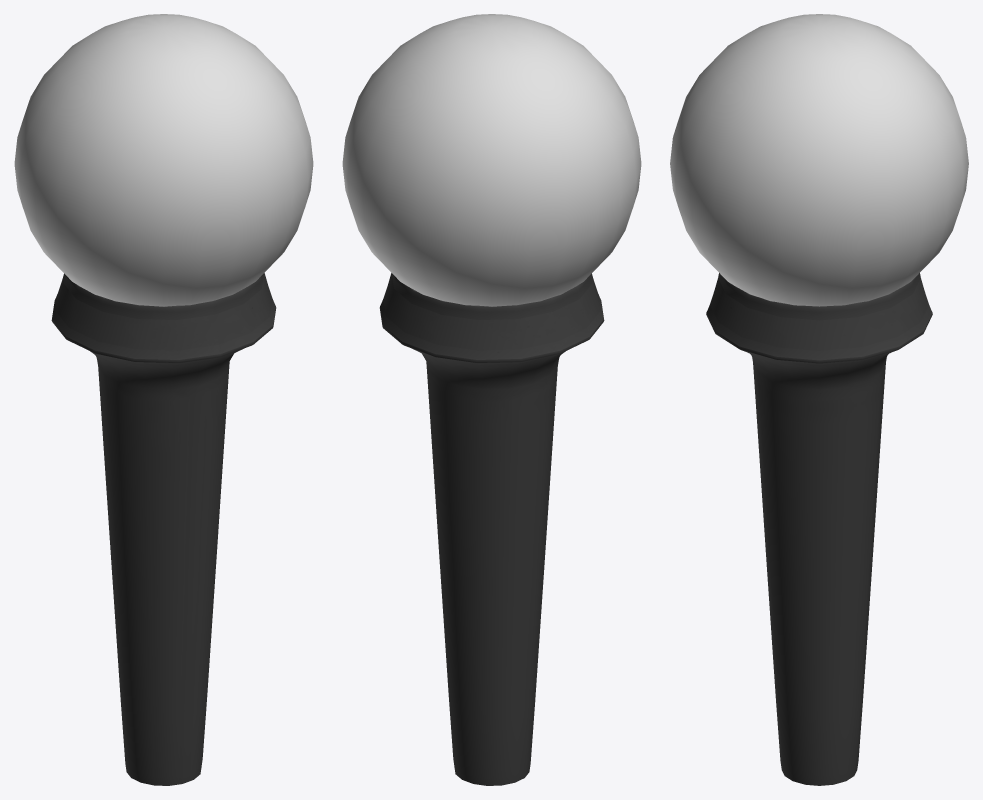
File: P26_T04_LS_AESPA.1_LIT.glb
The picture shows the model from 3 angles, left to right: view 1: azimuth 30°, elevation 25°; view 2: azimuth 150°, elevation 25°; view 3: azimuth 270°, elevation 25°; orthographic projection.
Parts seen in each view (by area): view 1: AESPA.1; view 2: AESPA.1; view 3: AESPA.1.
Part boxes in pixels (box(x1,y1,x2,y2)): AESPA.1: box(14, 14, 313, 785); AESPA.1: box(342, 14, 641, 785); AESPA.1: box(670, 14, 968, 785).
Size of the model in its own units: 0.1755 by 0.4814 by 0.1755.
4 materials, 2 textured.
